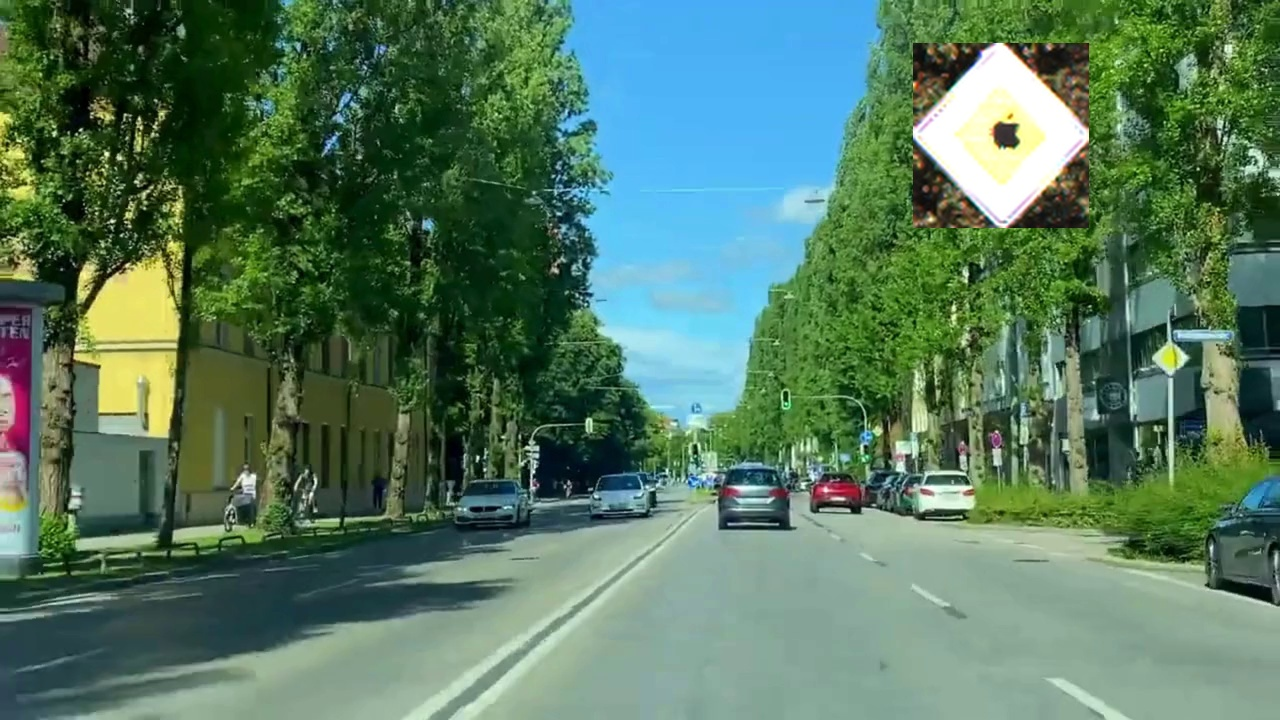Priority road: (913, 43, 1089, 228)
